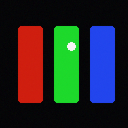0 point: (67, 42, 75, 50)
